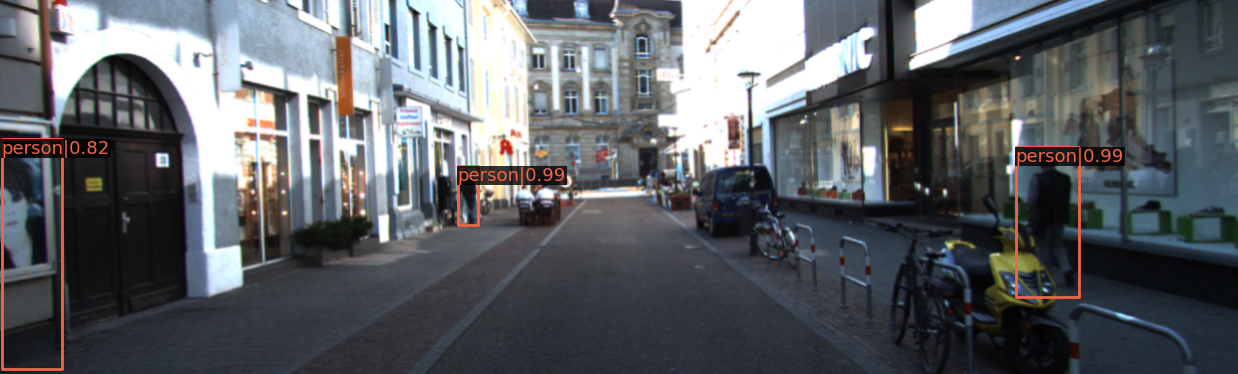person: (1037, 144, 1088, 294)
